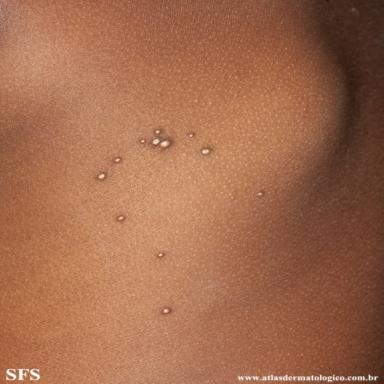Molluscum-Contagiosum: (151, 137, 172, 149), (200, 148, 211, 156), (161, 307, 171, 314), (97, 173, 106, 180), (117, 215, 125, 222), (114, 157, 122, 163), (155, 129, 161, 135), (157, 253, 164, 258), (140, 139, 146, 144), (189, 133, 195, 138), (257, 192, 264, 196)
